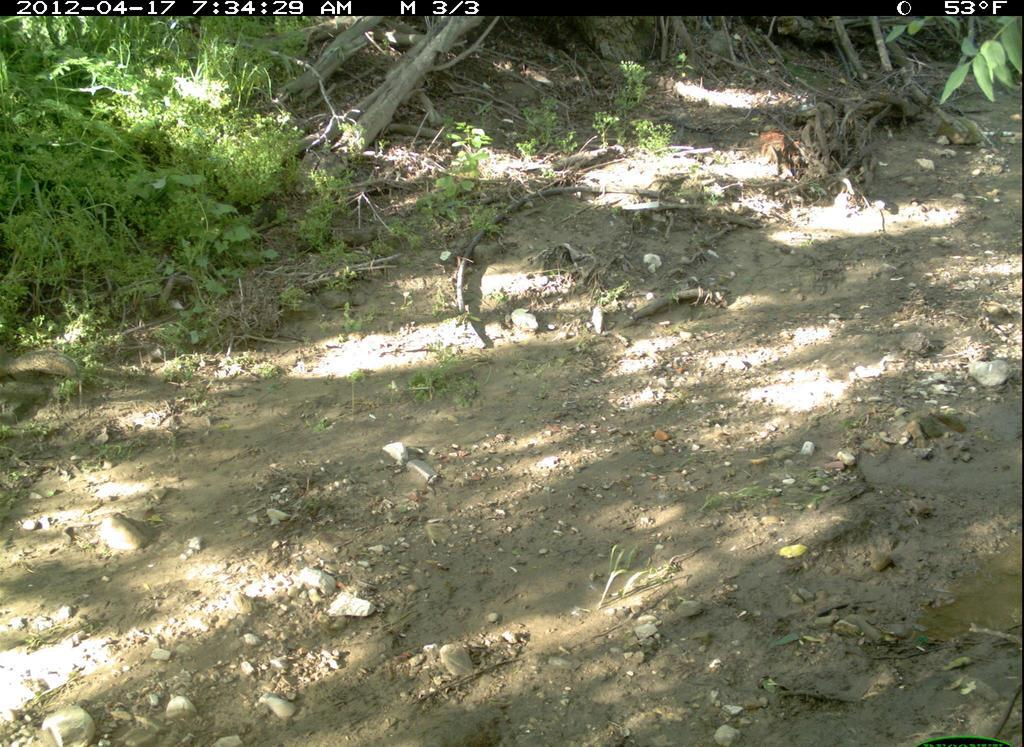squirrel: (1, 337, 93, 411)
